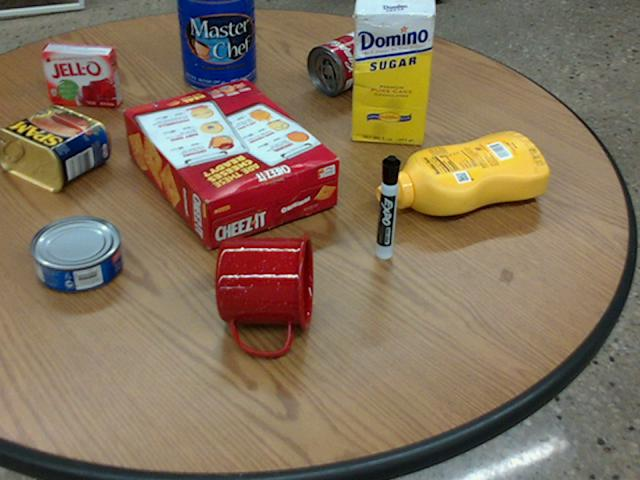cracker_box: (123, 78, 339, 248)
gelatin_box: (42, 43, 121, 105)
large_marker: (376, 155, 399, 258)
master_chef_can: (177, 0, 256, 91)
mug: (215, 232, 311, 354)
mustard_bottle: (376, 131, 547, 214)
potted_meat_can: (0, 106, 108, 190)
sugar_box: (351, 0, 434, 144)
tomato_soup_can: (306, 24, 391, 93)
tuna_fish_can: (30, 215, 121, 291)
